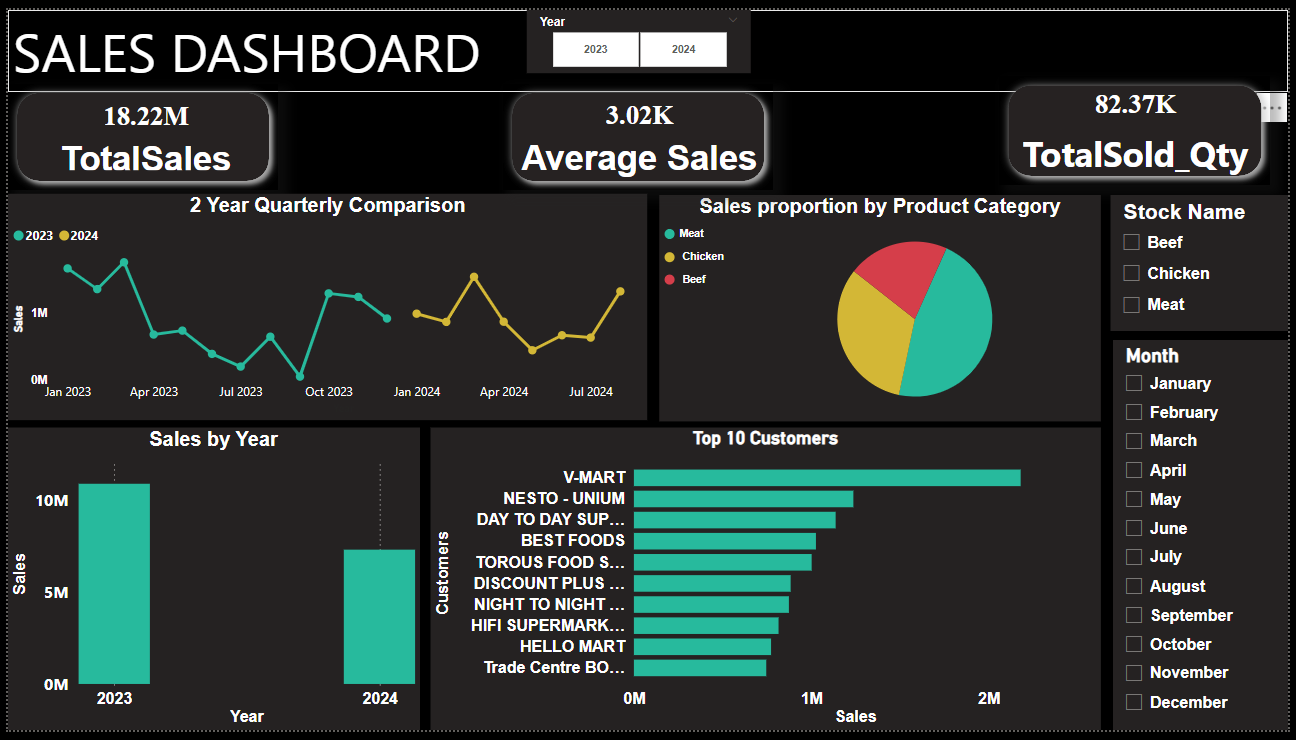

The dashboard page shown, as its layout file describes it:
{"tool":"powerbi","page":{"name":"Sales Overview","canvas":[1280,720],"ordinal":0},"visuals":[{"type":"textbox","box":[0,0,1280.3,81.9],"z":0},{"type":"slicer","fields":{"Values":["Sheet1.Year"]},"box":[518.5,0,223.8,63.6],"z":1000},{"type":"shape","box":[991.5,66.7,271.2,108.8],"z":2000},{"type":"card","fields":{"Values":["Sheet1.TotalSold_Qty"]},"box":[1007.8,67.9,240,108.8],"z":3000},{"type":"shape","box":[0.4,73.4,270,106.2],"z":4000},{"type":"card","fields":{"Values":["Sheet1.TotalSales"]},"box":[41.7,84.7,193.8,80],"z":5000},{"type":"clusteredColumnChart","title":"Sales by Year","fields":{"Category":["Sheet1.Year"],"Y":["Sum(Sheet1.Sales)"]},"box":[0,417,412.1,303.3],"z":6000},{"type":"clusteredBarChart","title":"Top 10 Customers","fields":{"Y":["Sum(Sheet1.Sales)"],"Category":["Sheet1.Main Customer Name"]},"box":[423.1,417,670.1,303.3],"z":7000},{"type":"lineChart","title":"2 Year Quarterly Comparison","fields":{"Category":["Sheet1.Inv Date.Variation.Date Hierarchy.Year","Sheet1.Inv Date.Variation.Date Hierarchy.Month"],"Series":["Sheet1.Year"],"Y":["Sum(Sheet1.Sales)"]},"box":[0,183.4,639.5,226.2],"z":8000},{"type":"pieChart","title":"Sales proportion by Product Category","fields":{"Y":["Sum(Sheet1.Sales)"],"Category":["Sheet1.Stock Name"]},"box":[651.8,184.6,441.4,226.2],"z":9000},{"type":"slicer","fields":{"Values":["Sheet1.Month.1"]},"box":[1105.4,330.2,174.9,390.1],"z":10000},{"type":"shape","box":[495.2,74.3,270.2,106.4],"z":11000},{"type":"card","fields":{"Values":["Sheet1.Average Sales"]},"box":[506.3,70.9,250.7,105.2],"z":12000},{"type":"slicer","fields":{"Values":["Sheet1.Stock Name"]},"box":[1103,184.6,177.3,135.7],"z":13000}]}

Visuals, with their boxes in screenshot pixels (x1, y1, x2, y2), scaled from the page's 1280x720 canvas onto the 1296x740 screenshot:
textbox: [0,0,1295,84]
slicer - Sheet1.Year: [525,0,752,65]
shape: [1004,69,1278,180]
card - Sheet1.TotalSold_Qty: [1020,70,1263,182]
shape: [0,75,274,185]
card - Sheet1.TotalSales: [42,87,238,169]
"Sales by Year" clusteredColumnChart: [0,429,417,739]
"Top 10 Customers" clusteredBarChart: [428,429,1107,739]
"2 Year Quarterly Comparison" lineChart: [0,188,647,421]
"Sales proportion by Product Category" pieChart: [660,190,1107,422]
slicer - Sheet1.Month.1: [1119,339,1295,739]
shape: [501,76,775,186]
card - Sheet1.Average Sales: [513,73,766,181]
slicer - Sheet1.Stock Name: [1117,190,1295,329]
